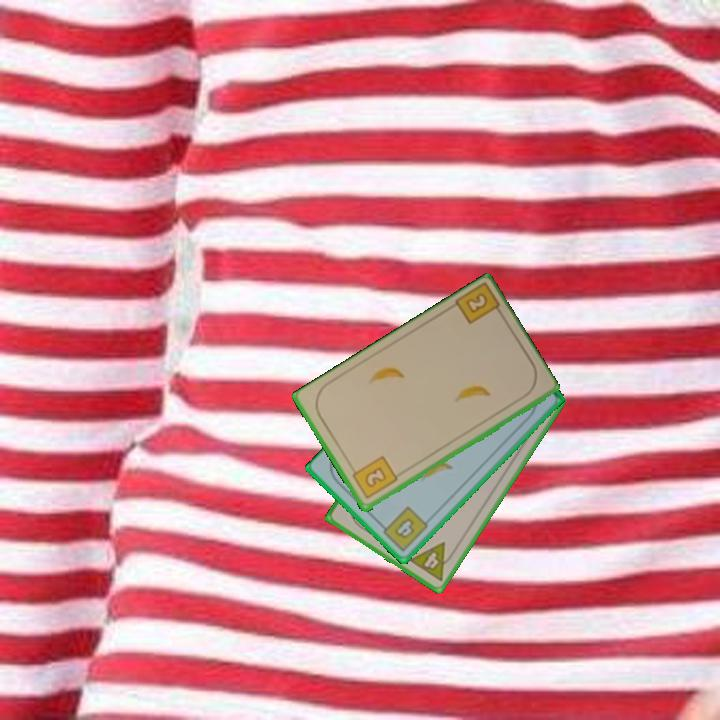2b: (450, 281, 507, 327), (347, 453, 400, 502)
4b: (376, 503, 432, 555)
4p: (405, 539, 459, 584)
